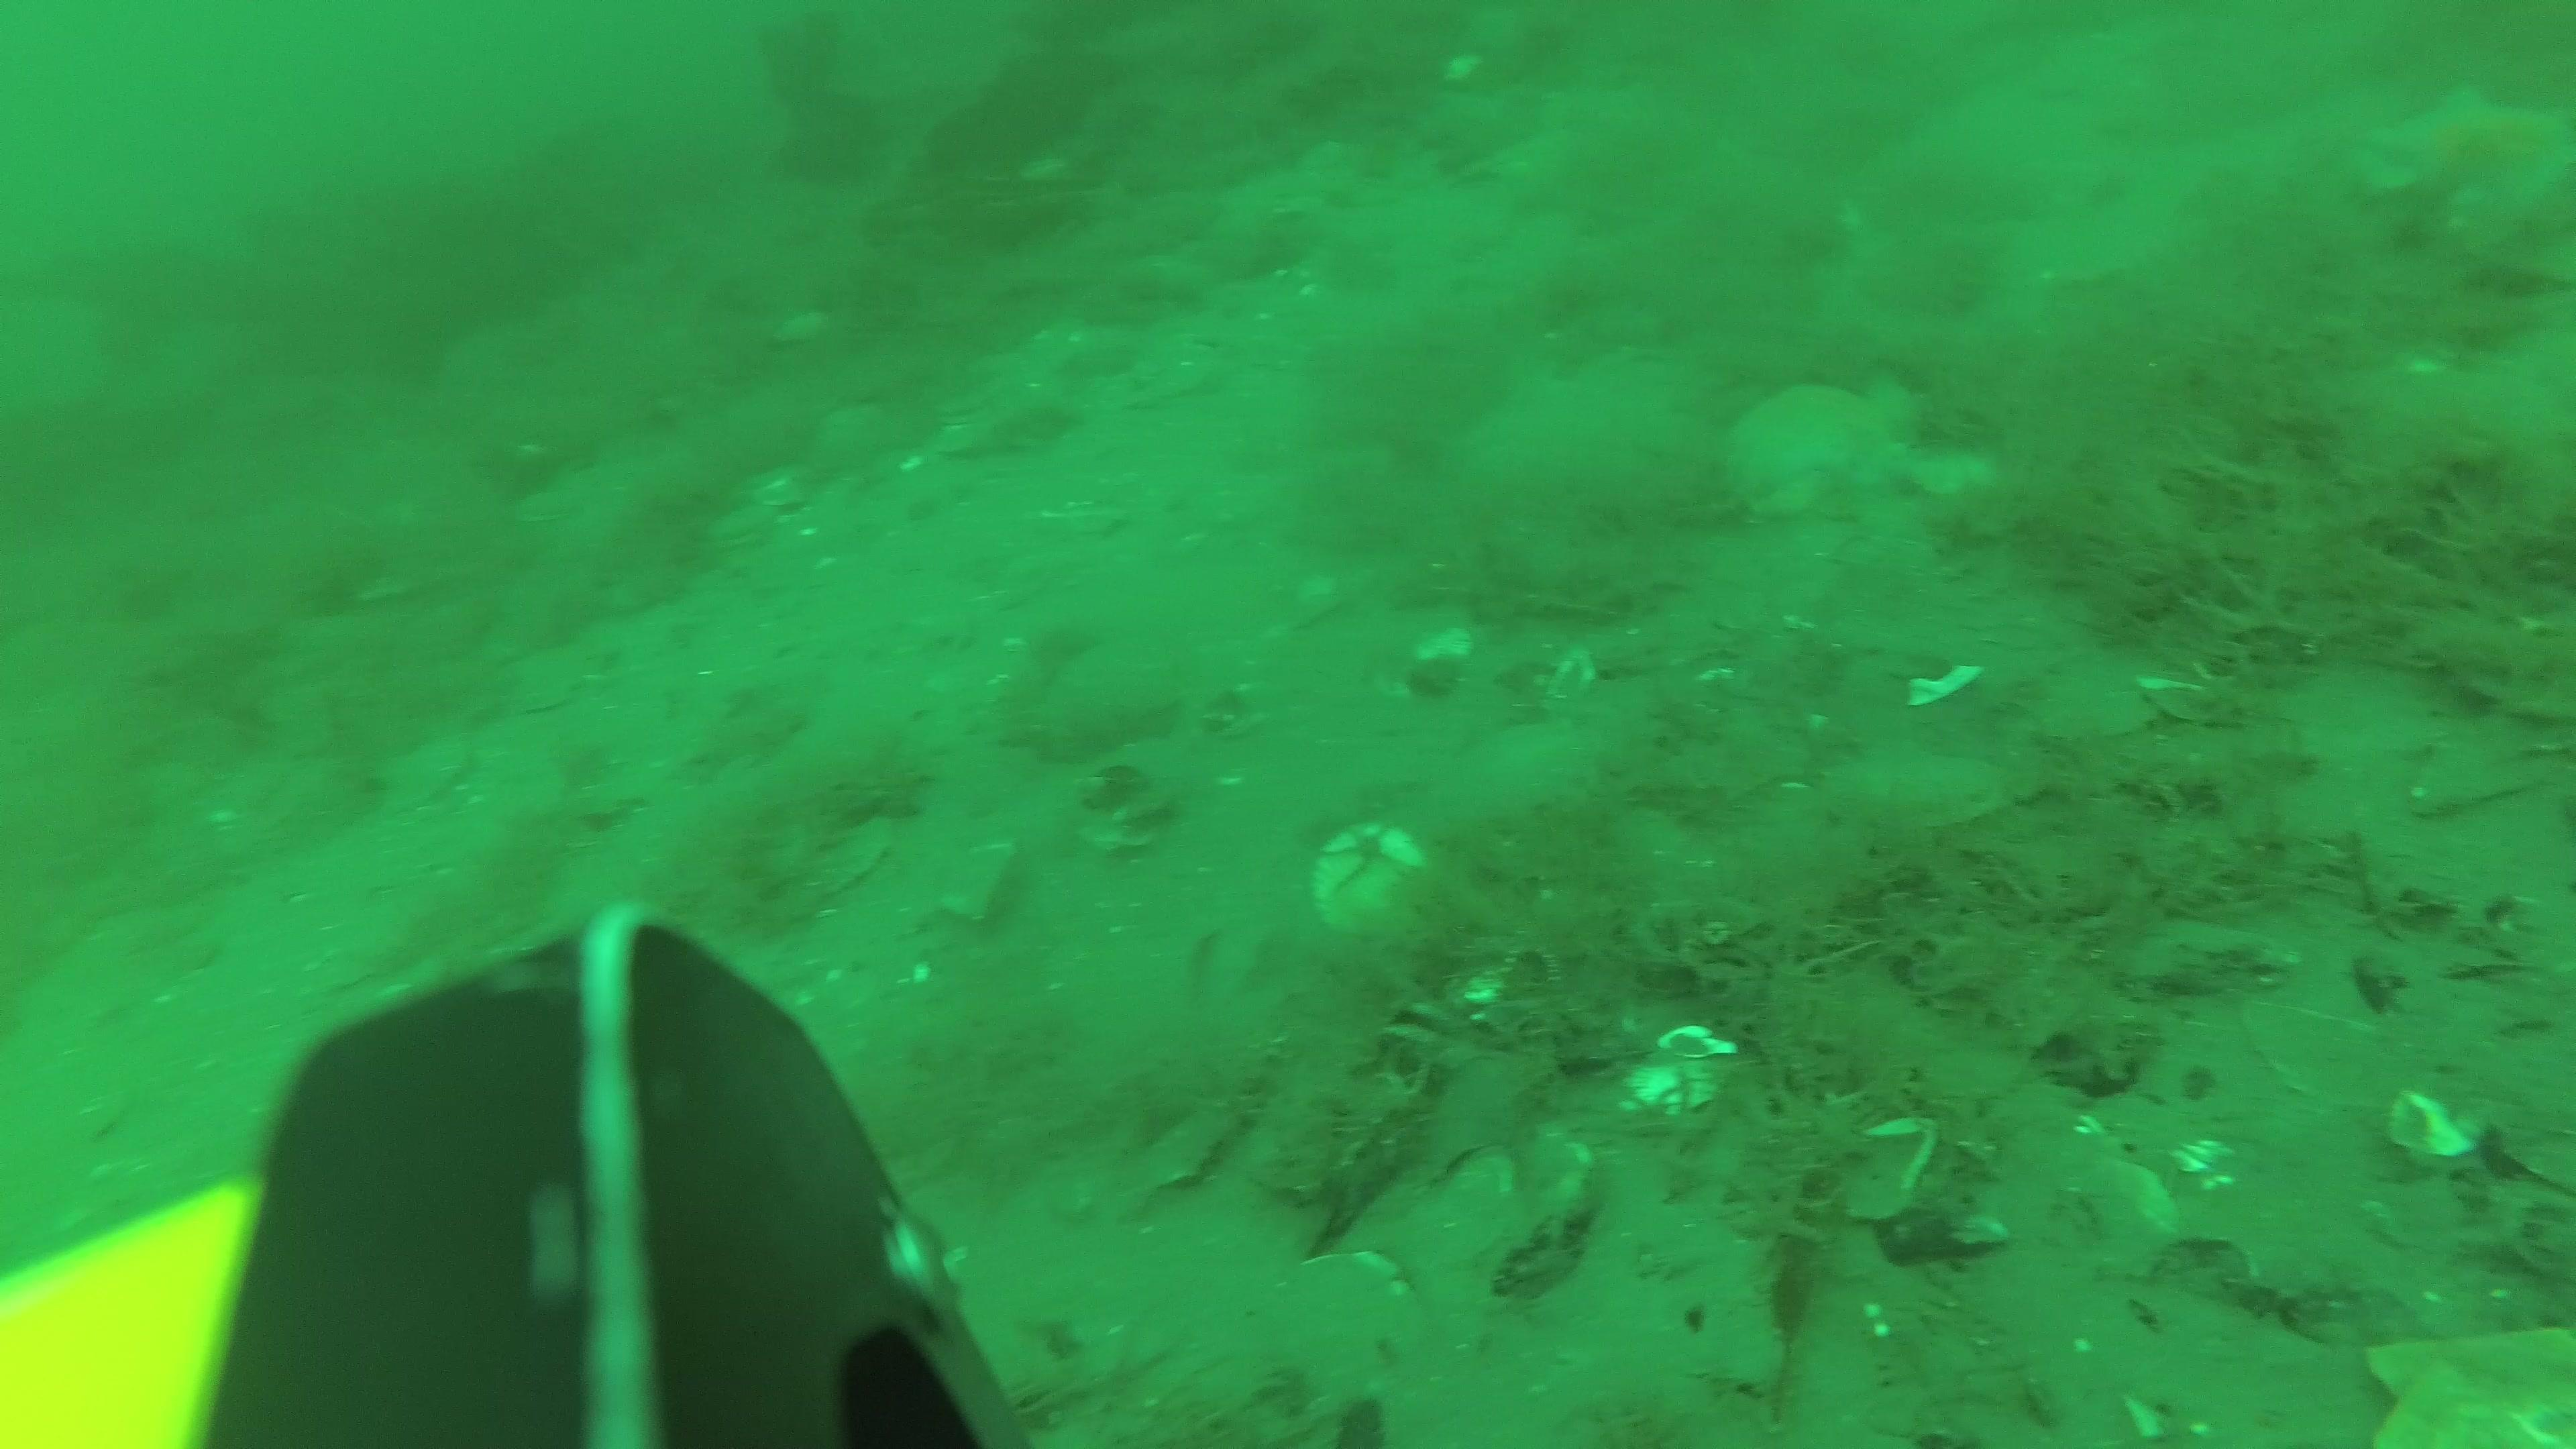scallop: (1311, 819, 1430, 947), (704, 502, 782, 547)
starfish: (1718, 382, 1934, 522), (2376, 76, 2567, 216)
